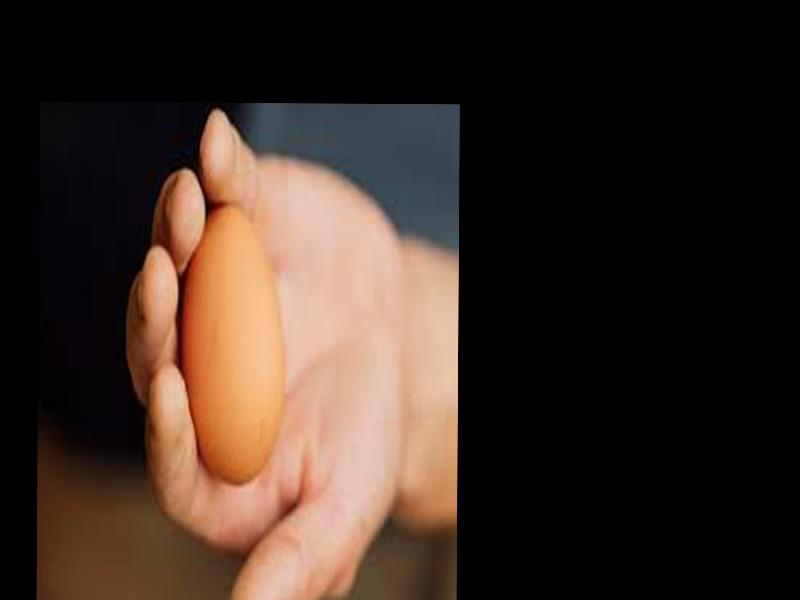Eggs: (183, 203, 284, 482)
